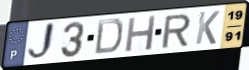3: (58, 21, 85, 59)
D: (93, 18, 125, 56)
H: (123, 14, 158, 54)
J: (25, 21, 57, 64)
K: (193, 10, 221, 46)
R: (160, 12, 193, 50)
